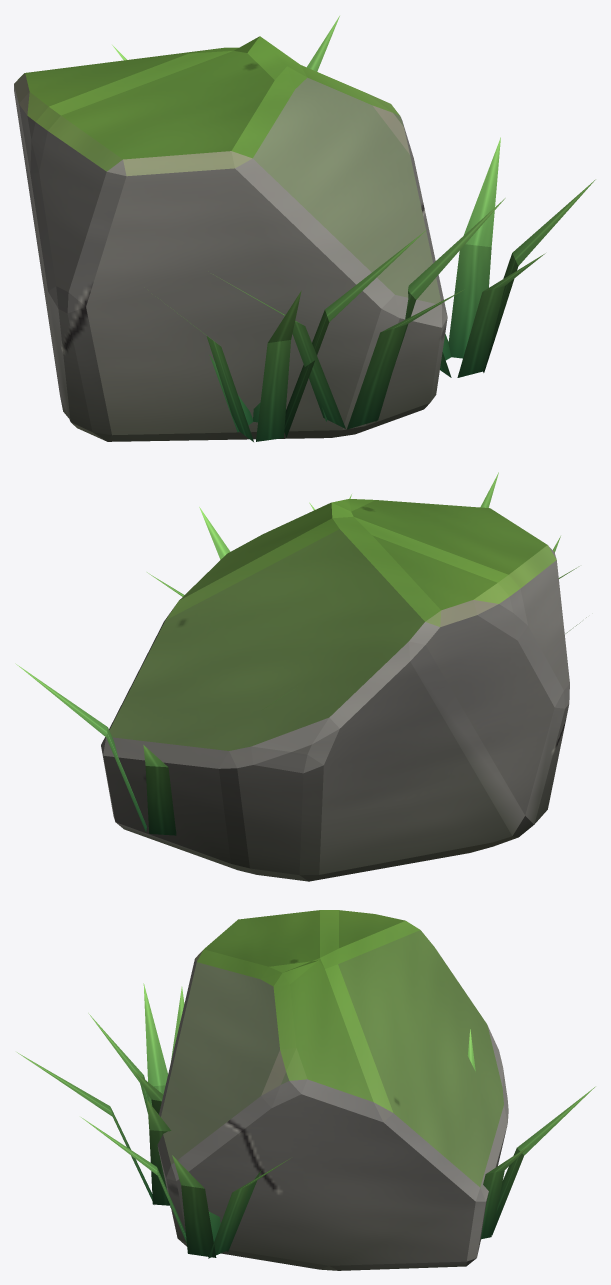
File: boulder_1.glb
The picture shows the model from 3 angles, top to bottom: view 1: azimuth 30°, elevation 25°; view 2: azimuth 150°, elevation 25°; view 3: azimuth 270°, elevation 25°; orthographic projection. The views are drawn at different scales.
Visible parts, largest first — view 1: boulder_1_rock, boulder_1_weeds; view 2: boulder_1_rock, boulder_1_weeds; view 3: boulder_1_rock, boulder_1_weeds.
Boxes of the visible parts, box(x1,y1,x2,y2) form: boulder_1_rock: box(14, 36, 447, 441); boulder_1_weeds: box(112, 16, 595, 441); boulder_1_rock: box(101, 499, 569, 881); boulder_1_weeds: box(15, 472, 586, 835); boulder_1_rock: box(157, 910, 508, 1270); boulder_1_weeds: box(17, 983, 595, 1258).
Bounding box in the file's own units: 0.7954 × 0.5779 × 1.09.
2 materials, 2 textured.
